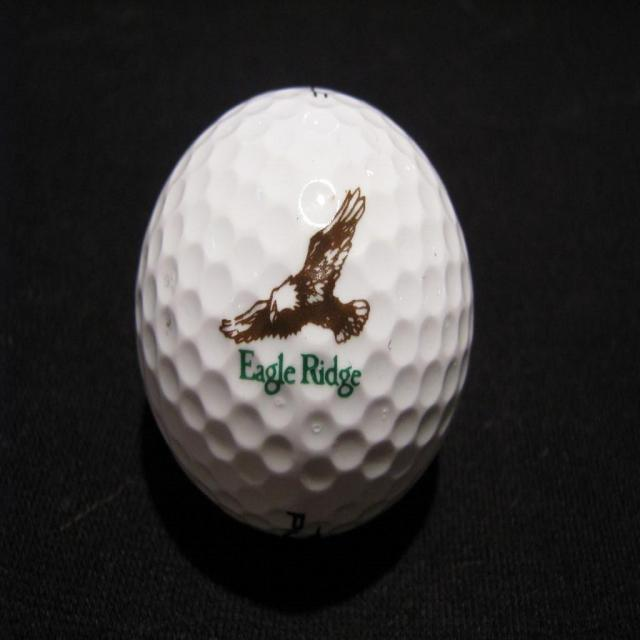golfball: (132, 84, 480, 544)
